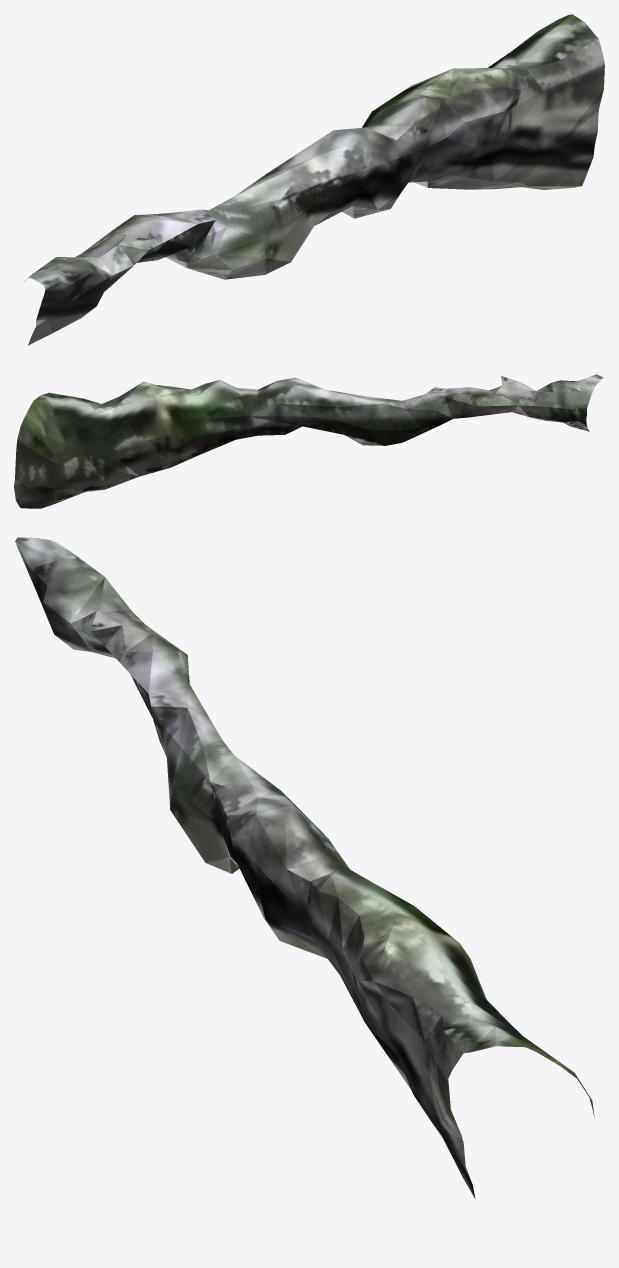
The picture shows the model from 3 angles, top to bottom: view 1: azimuth 30°, elevation 25°; view 2: azimuth 150°, elevation 25°; view 3: azimuth 270°, elevation 25°; orthographic projection. The views are drawn at different scales.
Bounding box in the file's own units: 0.8373 × 0.2578 × 0.4809.
Materials: 1 (1 with a texture image).
